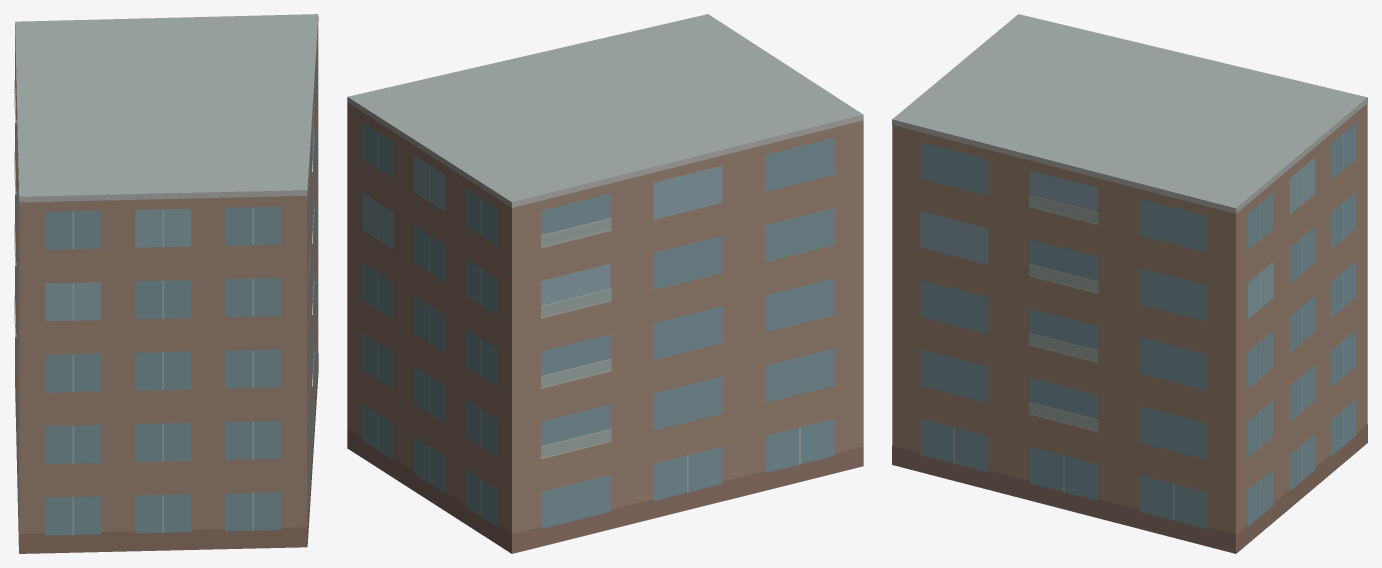
File: survey-upis-32628194.glb
3 renders of one model, left to right at view 1: azimuth 30°, elevation 25°; view 2: azimuth 150°, elevation 25°; view 3: azimuth 270°, elevation 25°, orthographic. The views are drawn at different scales.
Parts seen in each view (by area): view 1: survey-upis-32628194.tmp; view 2: survey-upis-32628194.tmp; view 3: survey-upis-32628194.tmp.
Part boxes in pixels (left/top/right/bottom): survey-upis-32628194.tmp: left=14, top=14, right=318, bottom=553; survey-upis-32628194.tmp: left=347, top=14, right=863, bottom=553; survey-upis-32628194.tmp: left=892, top=14, right=1367, bottom=553.
Size of the model in its own units: 18.41 by 15.25 by 19.04.
